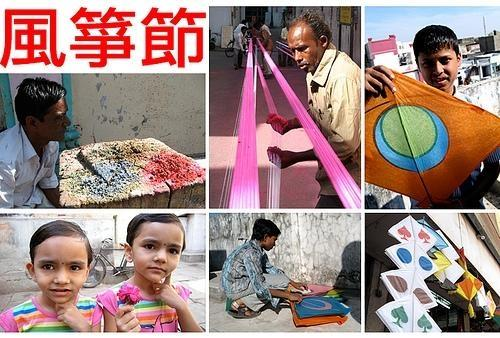bicycle: (82, 238, 134, 288), (225, 40, 247, 57)
